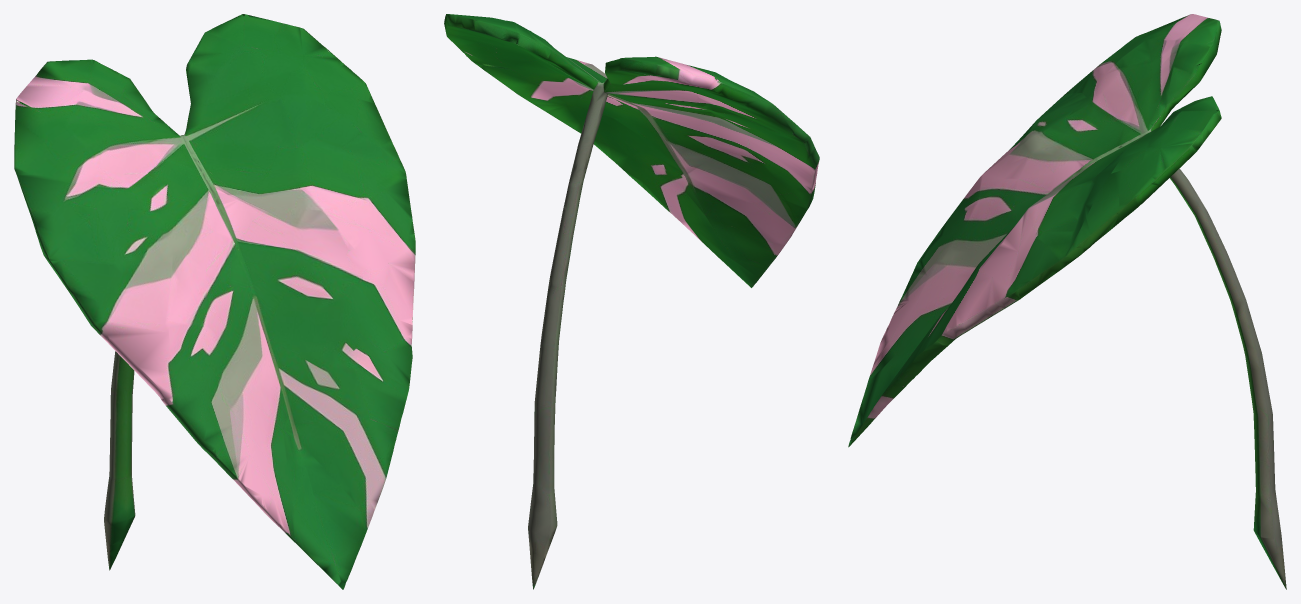
The model's file is pp_leaf_mid_pinkmarble.glb.
3 renders of one model, left to right at view 1: azimuth 30°, elevation 25°; view 2: azimuth 150°, elevation 25°; view 3: azimuth 270°, elevation 25°, orthographic. The views are drawn at different scales.
Size of the model in its own units: 1.27 by 1.9 by 1.44.
Materials: 1 (1 with a texture image).
